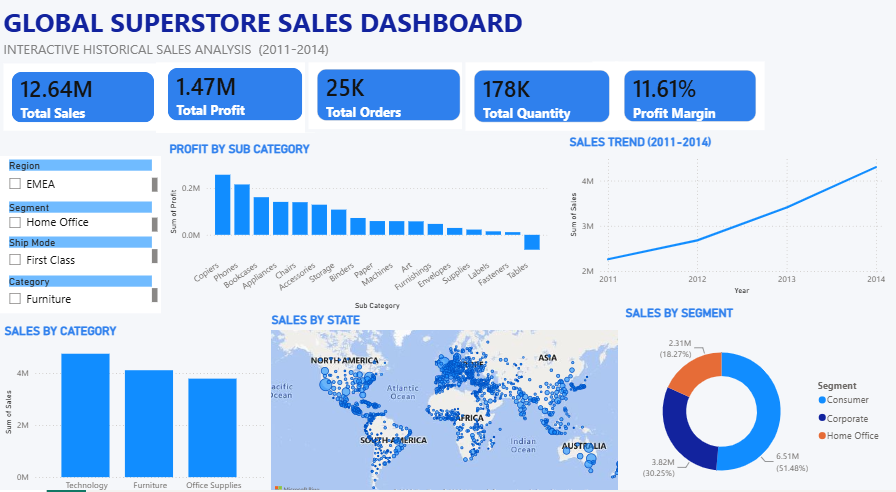

The dashboard page shown, as its layout file describes it:
{"tool":"powerbi","page":{"name":"Page 1","canvas":[1280,720],"ordinal":0},"visuals":[{"type":"cardVisual","fields":{"Data":["Sum(superstore.Profit)"]},"box":[223,80.5,226.8,109.8],"z":0},{"type":"cardVisual","fields":{"Data":["superstore.Total Order"]},"box":[435.3,82.1,239,108],"z":1000},{"type":"cardVisual","fields":{"Data":["Sum(superstore.Quantity)"]},"box":[659.7,83.5,229,109.4],"z":2000},{"type":"cardVisual","fields":{"Data":["superstore.Profit Margin"]},"box":[874.1,83.5,223.2,108],"z":3000},{"type":"lineClusteredColumnComboChart","title":"SALES BY CATEGORY","fields":{"Category":["superstore.Category"],"Y":["Sum(superstore.Sales)"]},"box":[1.4,462.2,381.6,257.8],"z":4000},{"type":"columnChart","title":"PROFIT BY SUB CATEGORY","fields":{"Category":["superstore.Sub Category"],"Y":["Sum(superstore.Profit)"]},"box":[237.6,203,550.1,244.8],"z":5000},{"type":"donutChart","title":"SALES BY SEGMENT","fields":{"Category":["superstore.Segment"],"Y":["Sum(superstore.Sales)"]},"box":[888.5,437.8,381.6,282.2],"z":6000},{"type":"slicer","fields":{"Values":["superstore.Region"]},"box":[0,222.4,229.8,64.4],"z":7000},{"type":"slicer","fields":{"Values":["superstore.Category"]},"box":[0,389.3,229.8,58.5],"z":8000},{"type":"slicer","fields":{"Values":["superstore.Segment"]},"box":[0,283.4,229.8,52.7],"z":9000},{"type":"slicer","fields":{"Values":["superstore.Ship Mode"]},"box":[0,332.7,229.8,60],"z":10000},{"type":"lineChart","title":"SALES TREND (2011-2014)","fields":{"Category":["superstore.Order Date.Variation.Date Hierarchy.Year","superstore.Order Date.Variation.Date Hierarchy.Quarter","superstore.Order Date.Variation.Date Hierarchy.Month","superstore.Order Date.Variation.Date Hierarchy.Day"],"Y":["Sum(superstore.Sales)"]},"box":[809.3,193,460.8,233.3],"z":11000},{"type":"map","title":"SALES BY STATE","fields":{"Category":["superstore.State"],"Size":["Sum(superstore.Sales)"]},"box":[383,447.8,505.4,272.2],"z":12000},{"type":"textbox","box":[0,0,845.9,89.3],"z":13000},{"type":"cardVisual","fields":{"Data":["Sum(superstore.Sales)"]},"box":[0,86.4,237.6,106.6],"z":14000}]}

Visuals, with their boxes in screenshot pixels (x1, y1, x2, y2), scaled from the page's 1280x720 canvas onto the 896x492 screenshot:
cardVisual - Sum(superstore.Profit): 156 55 315 130
cardVisual - superstore.Total Order: 305 56 472 130
cardVisual - Sum(superstore.Quantity): 462 57 622 132
cardVisual - superstore.Profit Margin: 612 57 768 131
"SALES BY CATEGORY" lineClusteredColumnComboChart: 1 316 268 491
"PROFIT BY SUB CATEGORY" columnChart: 166 139 551 306
"SALES BY SEGMENT" donutChart: 622 299 889 491
slicer - superstore.Region: 0 152 161 196
slicer - superstore.Category: 0 266 161 306
slicer - superstore.Segment: 0 194 161 230
slicer - superstore.Ship Mode: 0 227 161 268
"SALES TREND (2011-2014)" lineChart: 567 132 889 291
"SALES BY STATE" map: 268 306 622 491
textbox: 0 0 592 61
cardVisual - Sum(superstore.Sales): 0 59 166 132
